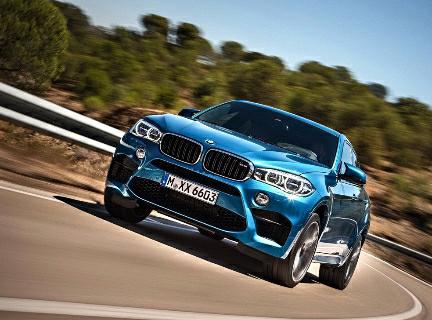宝马-X6M: (97, 97, 378, 289)
